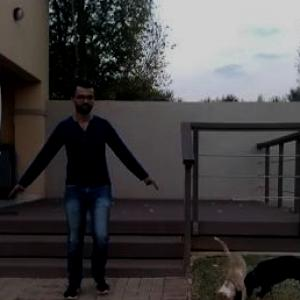land: (1, 86, 159, 299)
